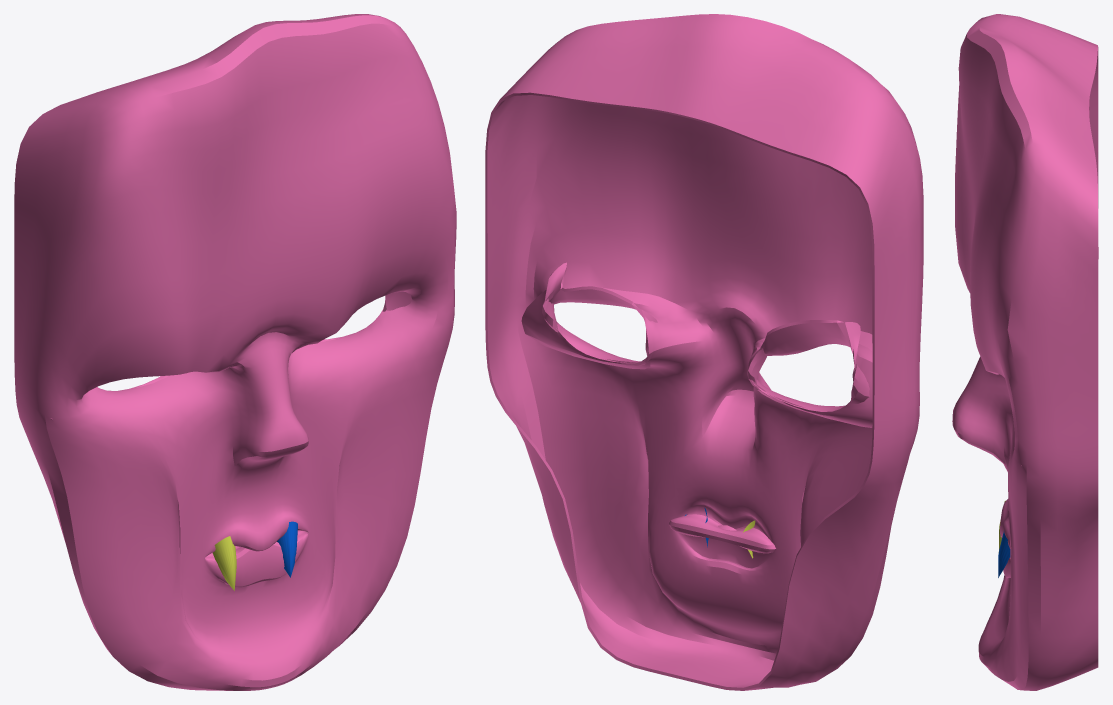
The model's file is Mask.fbx.
3 views of the same model, side by side, from view 1: azimuth 30°, elevation 25°; view 2: azimuth 150°, elevation 25°; view 3: azimuth 270°, elevation 25° (orthographic). The views are drawn at different scales.
Parts seen in each view (by area): view 1: Cube, Cone.001, Cone; view 2: Cube; view 3: Cube, Cone.
Part boxes in pixels (<box>): Cube: <box>14,14,456,690</box>; Cone.001: <box>212,536,236,590</box>; Cone: <box>277,521,297,577</box>; Cube: <box>485,14,923,690</box>; Cube: <box>952,14,1098,690</box>; Cone: <box>998,531,1010,577</box>.
Size of the model in its own units: 196 by 295 by 63.49.
